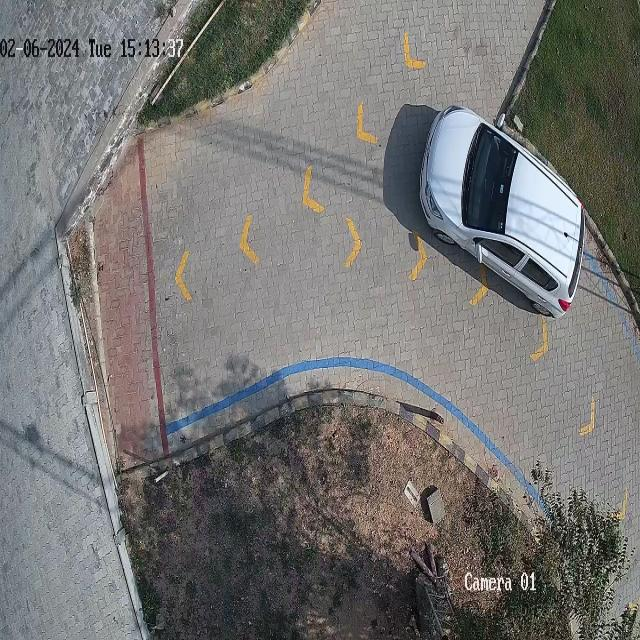car: (418, 108, 584, 313)
